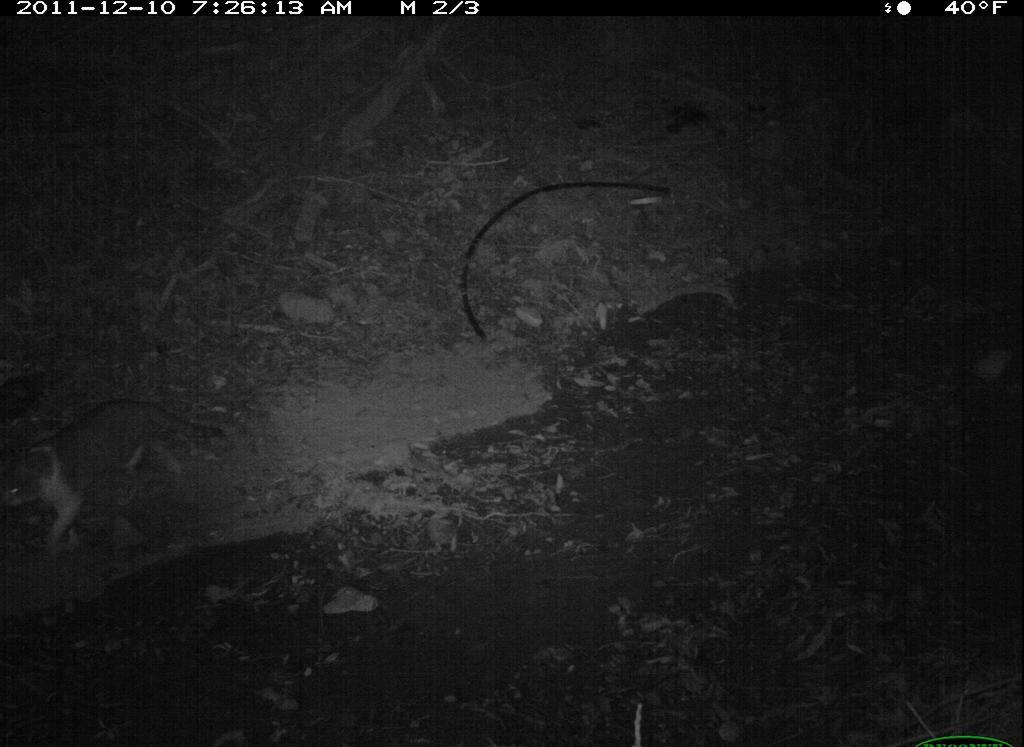cat: (8, 379, 236, 552)
